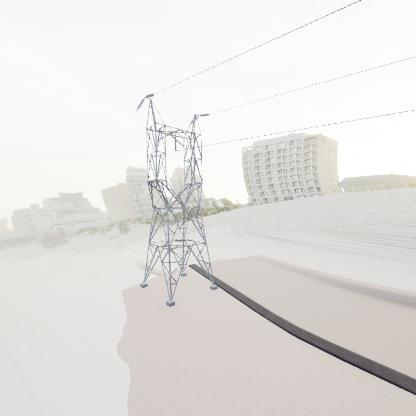tower: (134, 94, 219, 306)
